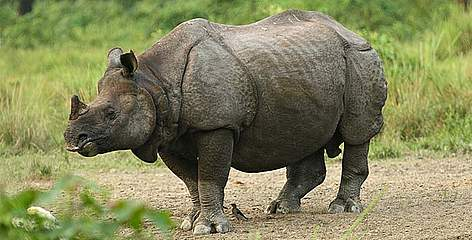rhinoceros: (65, 9, 395, 234)
